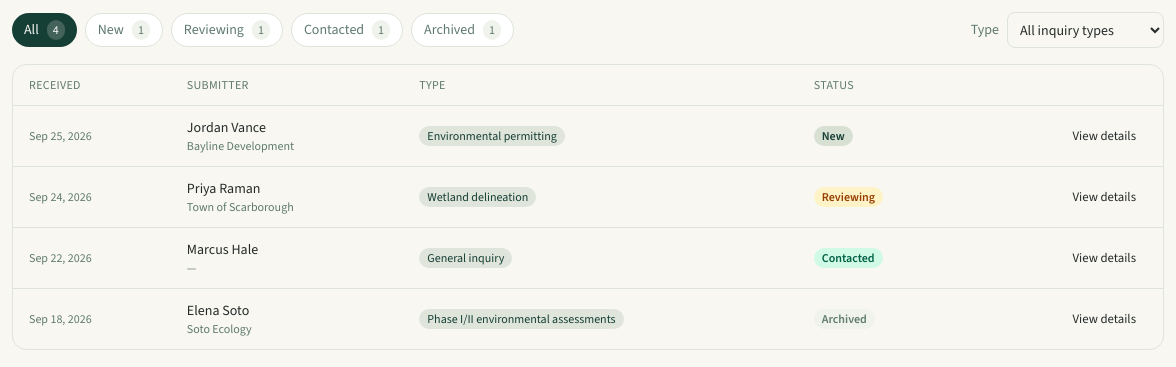
Test: InquiriesTable filtering › shows a clean empty state when no inquiries match the filters
Step 1. Select "Planning" in the dropdown labelled "Type" → (1086, 30), box [1007,12,1164,48]
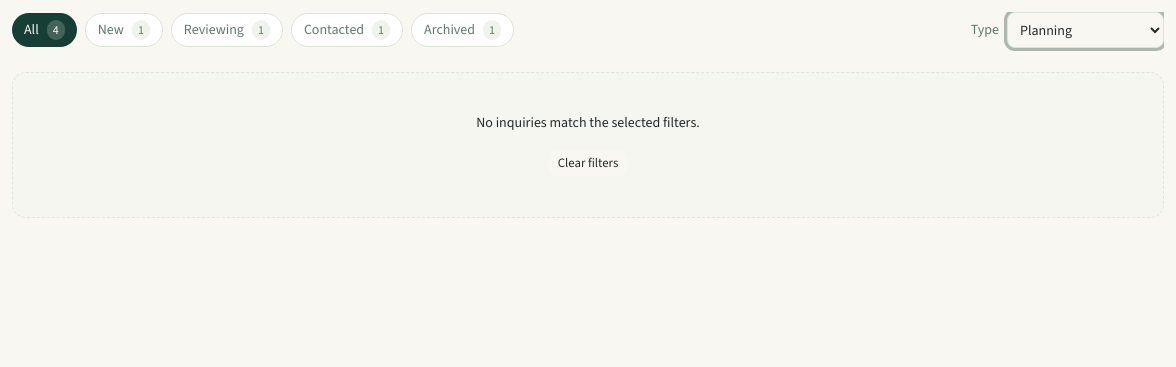
Expected: the text "No inquiries match the selected filters." is shown, [476,113,700,132]
Step 2. Click the button "Clear filters" → click(588, 163), box [547,149,629,177]
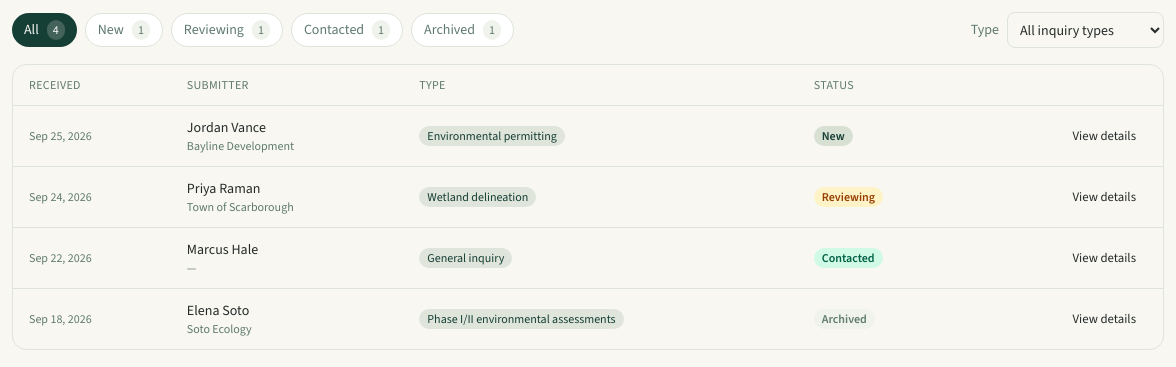
Expected: the text "Jordan Vance" is shown, [187,118,266,137]
Expected: the text "No inquiries match" is gone
